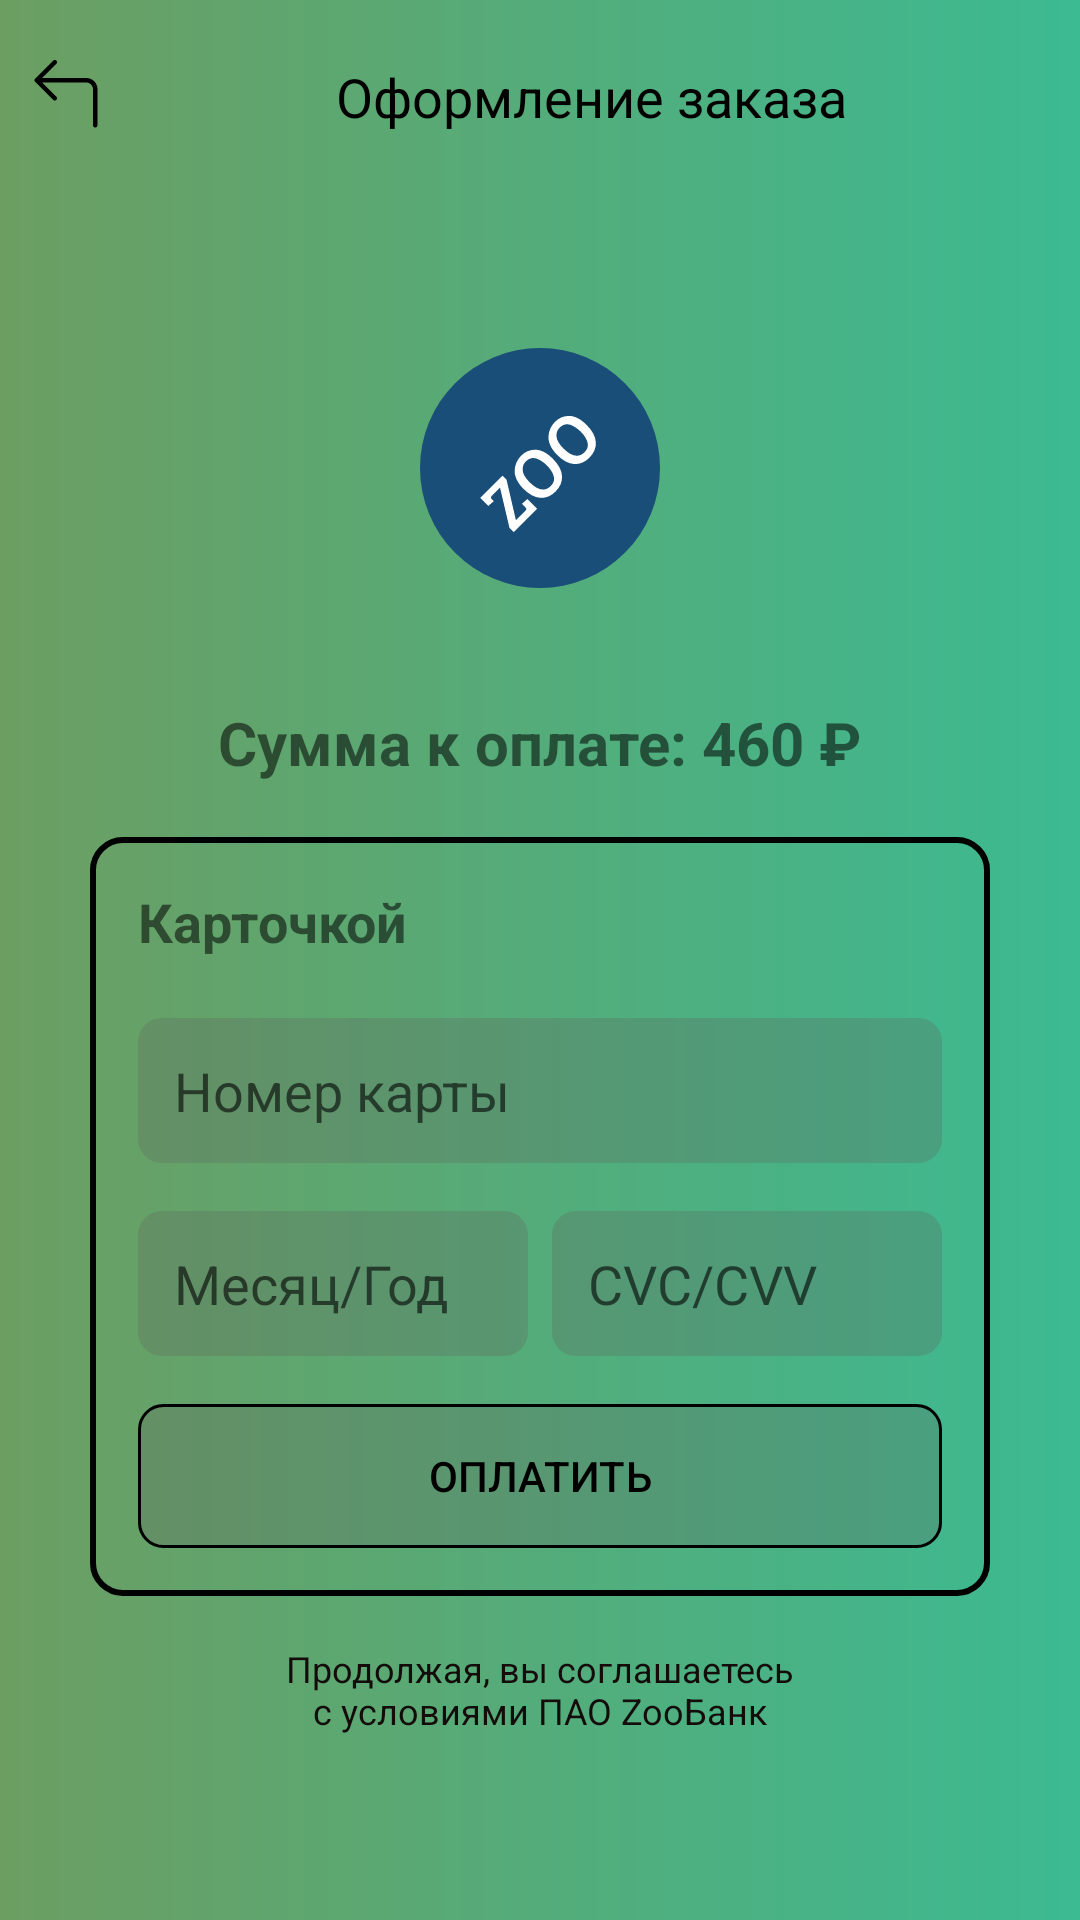

Point at icon controls on the screen. Image size 1080*1920, points as [x,y].
Back: [66,94]
